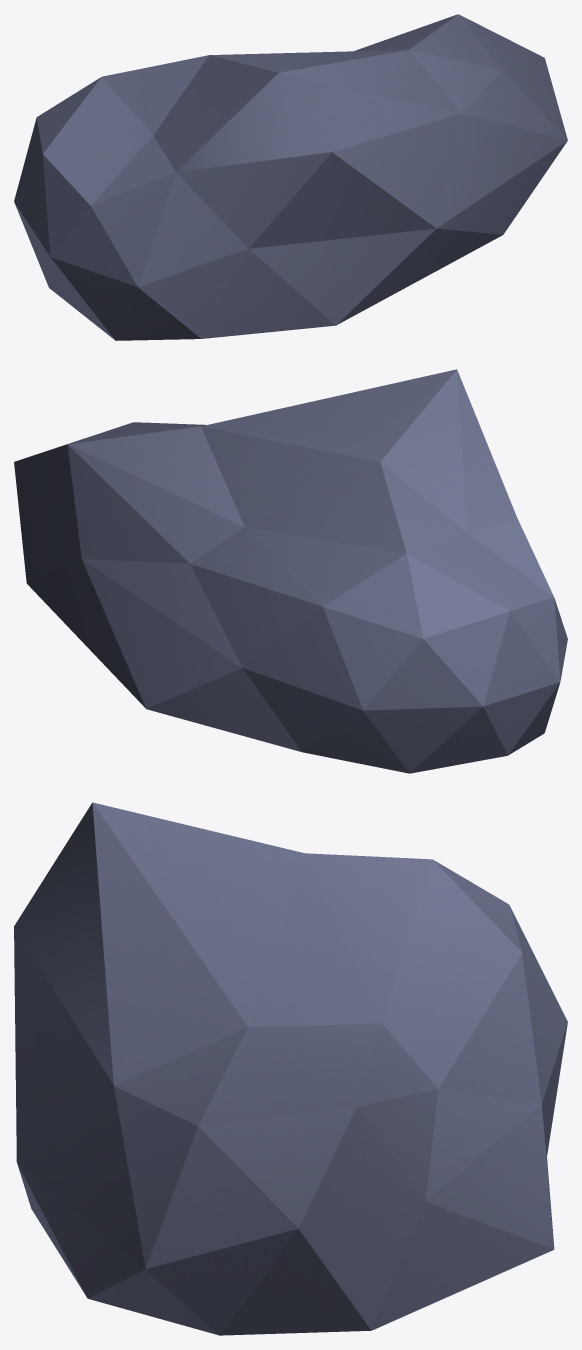
Rendered from SM_Rock01_Var2.fbx.
3 views of the same model, one above another, from view 1: azimuth 30°, elevation 25°; view 2: azimuth 150°, elevation 25°; view 3: azimuth 270°, elevation 25° (orthographic). The views are drawn at different scales.
Visible parts, largest first — view 1: MediumRock01.001; view 2: MediumRock01.001; view 3: MediumRock01.001.
Part boxes in pixels (box(x1,y1,x2,y2)): MediumRock01.001: box(14, 14, 567, 340); MediumRock01.001: box(14, 369, 567, 773); MediumRock01.001: box(14, 802, 567, 1335).
Bounding box in the file's own units: 345 × 180 × 219.
